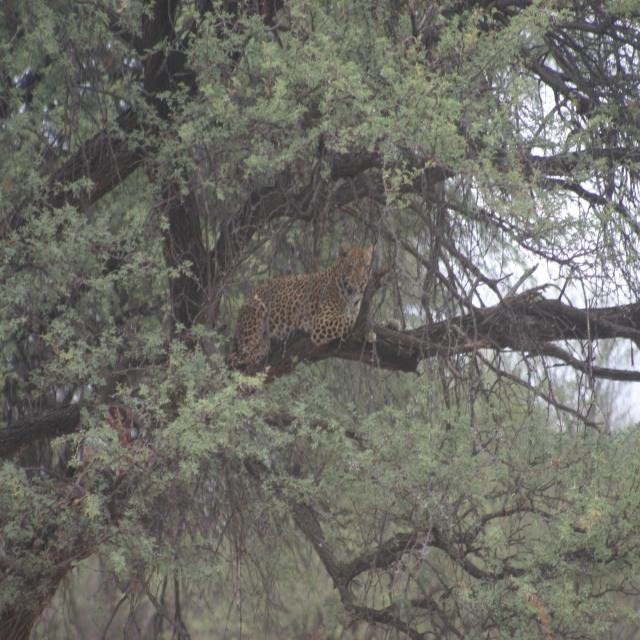Leopard: (222, 243, 382, 402)
